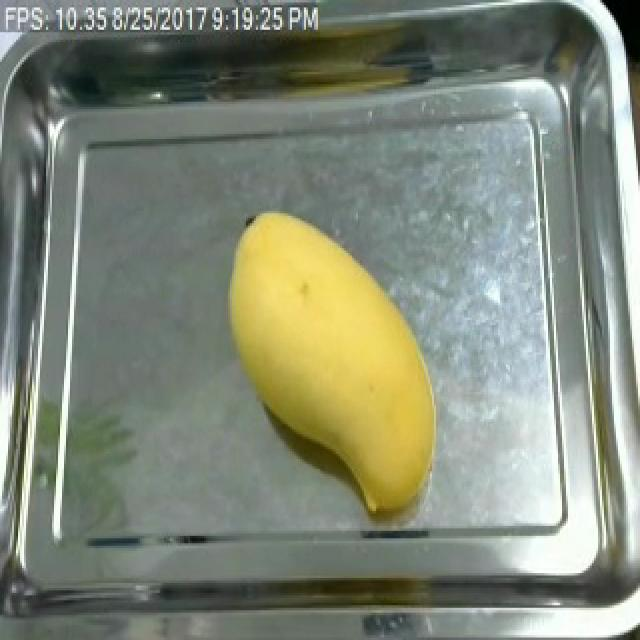fruit: (214, 198, 448, 534)
